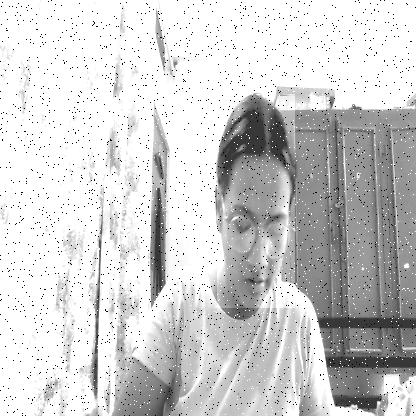Distracted: (217, 94, 295, 308)
